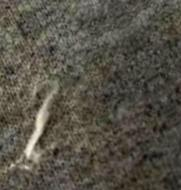snag: (20, 86, 58, 167)
